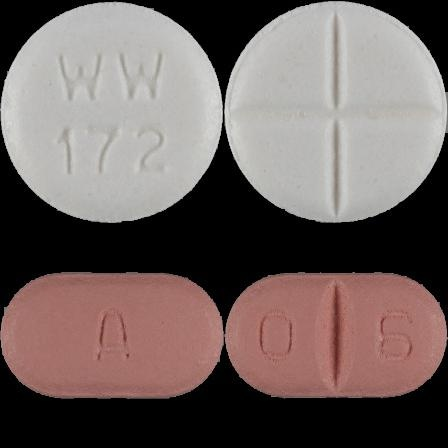67296-0677: (0, 0, 224, 224)
